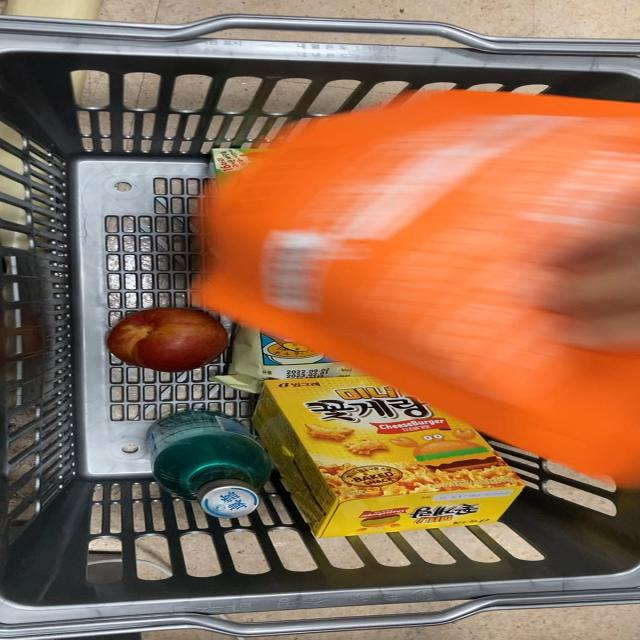cheesebagel: (205, 90, 640, 451)
jinro: (146, 404, 263, 534)
minicrab: (259, 382, 511, 522)
plum: (90, 306, 239, 376)
